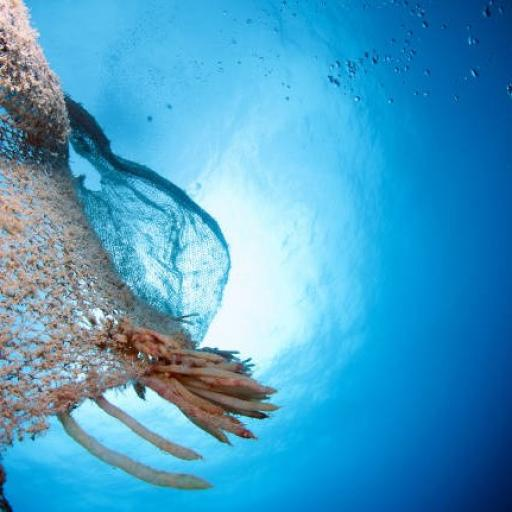net: (1, 0, 279, 508)
